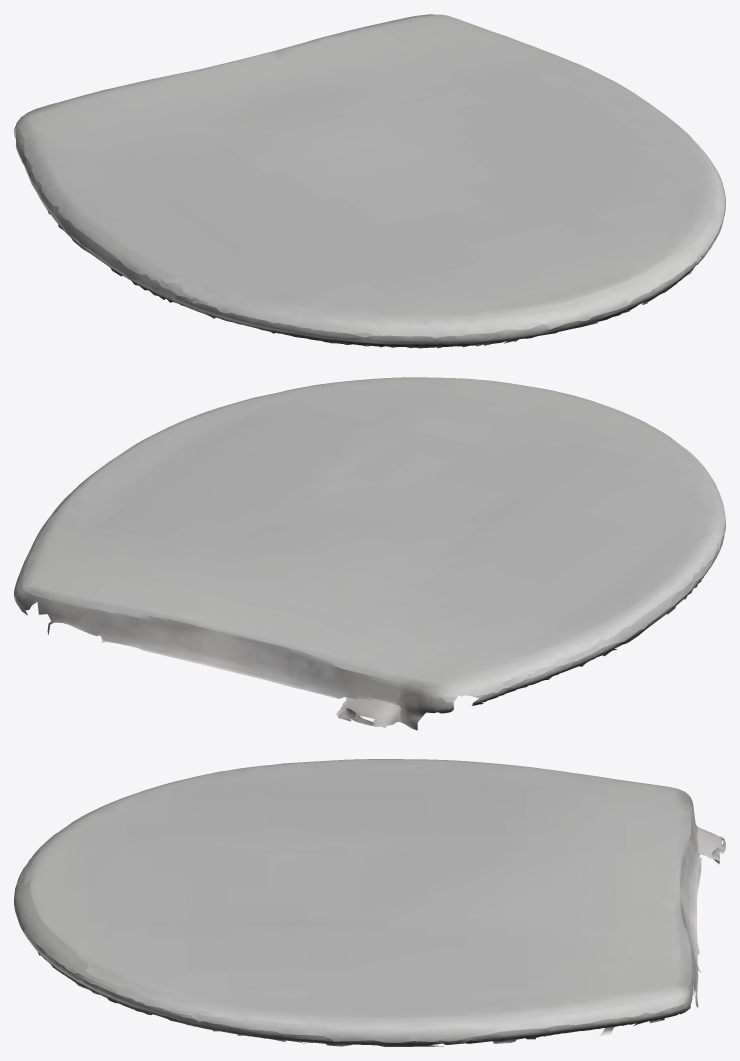
File: lid.glb
3 renders of one model, top to bottom at view 1: azimuth 30°, elevation 25°; view 2: azimuth 150°, elevation 25°; view 3: azimuth 270°, elevation 25°, orthographic.
Visible parts, largest first — view 1: world; view 2: world; view 3: world.
Boxes of the visible parts, left/top/right/bottom form: world: left=14, top=14, right=725, bottom=348; world: left=14, top=377, right=725, bottom=730; world: left=14, top=759, right=725, bottom=1046.
Bounding box in the file's own units: 0.3884 × 0.0328 × 0.4312.
Materials: 1 (1 with a texture image).
